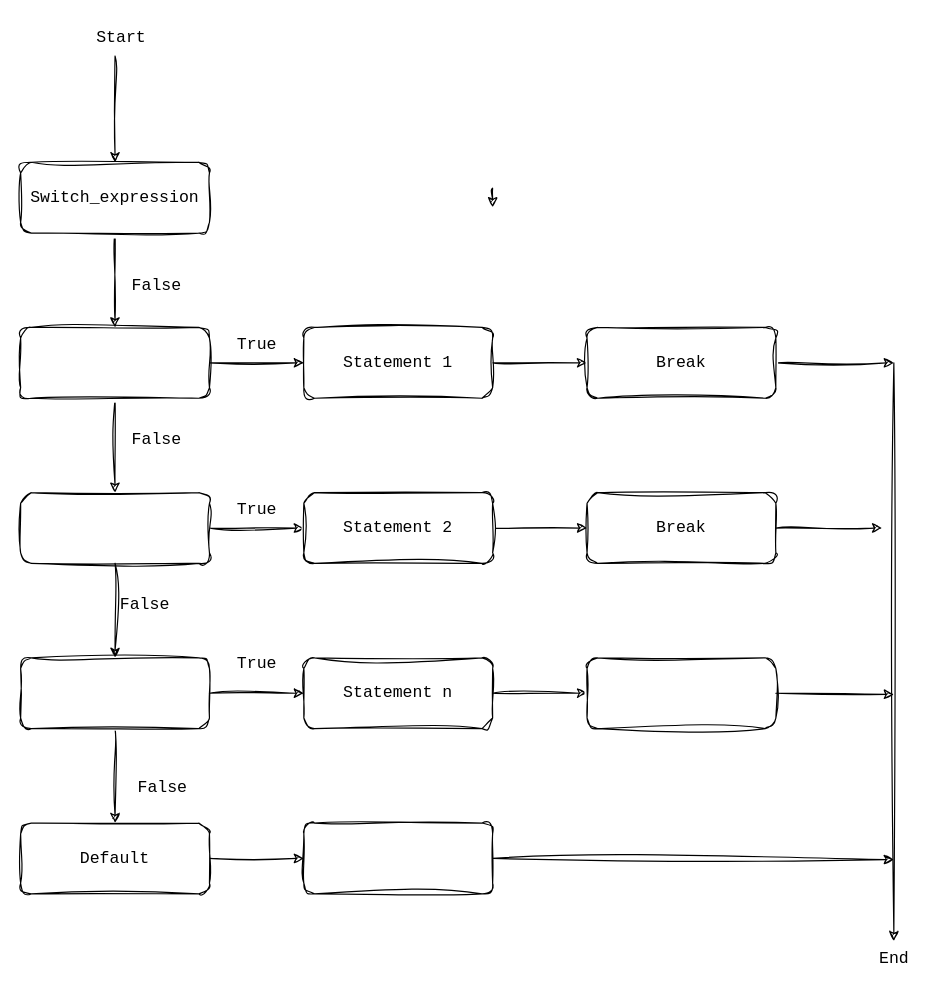
The diagram is 944 pixels wide and 996 high, and some of its shapes have lost their labels. Each missing label, with the box of its shape:
Case 1: (19, 326, 209, 398)
Case 2: (19, 491, 209, 563)
Case 3: (19, 657, 209, 729)
Statement: (303, 822, 493, 894)
